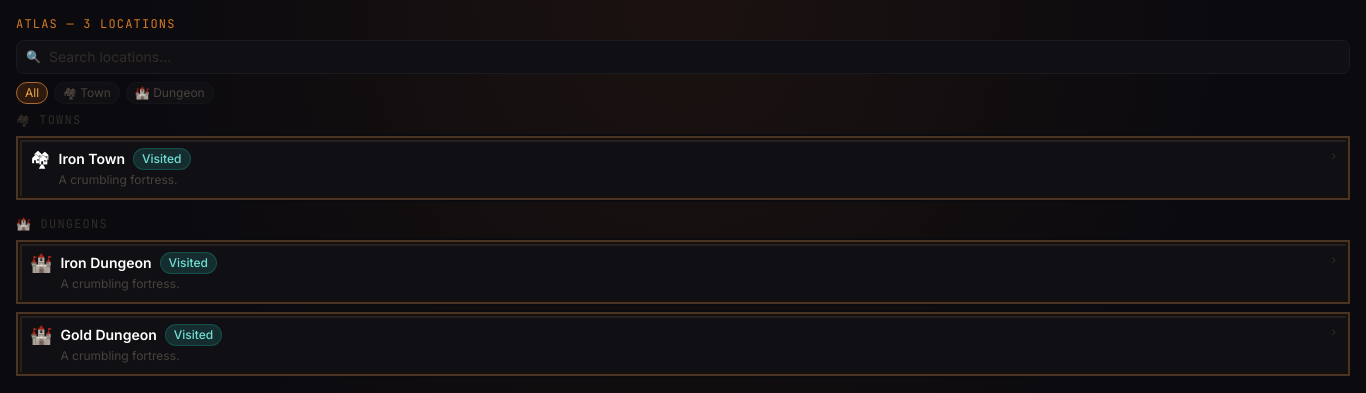
Scenario: AtlasPanel — type filter › search and type filter compose
Type "iron" into the search field at x=683, y=57, box [16,40,1350,74]
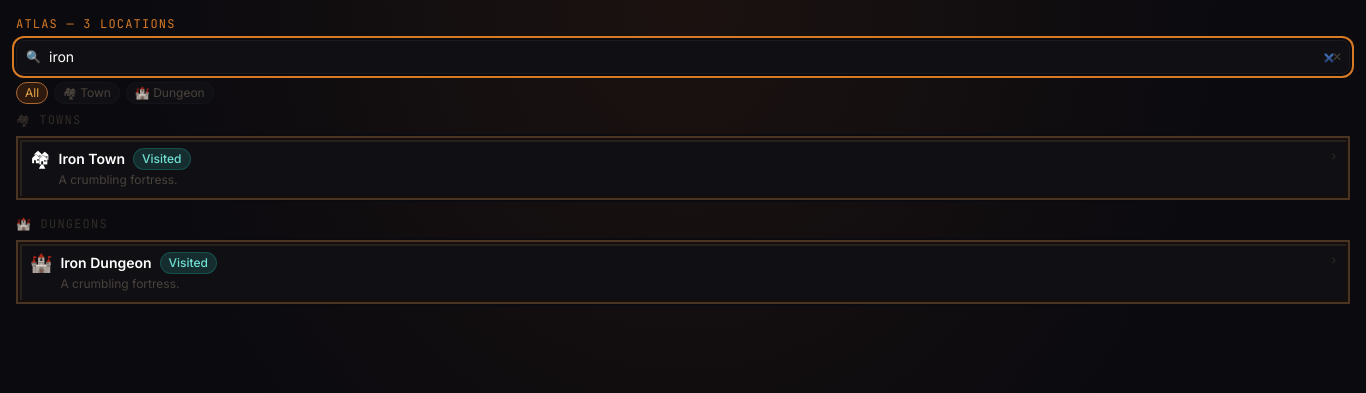
Click the button "🏰 Dungeon" at x=170, y=93, box [126,82,214,104]
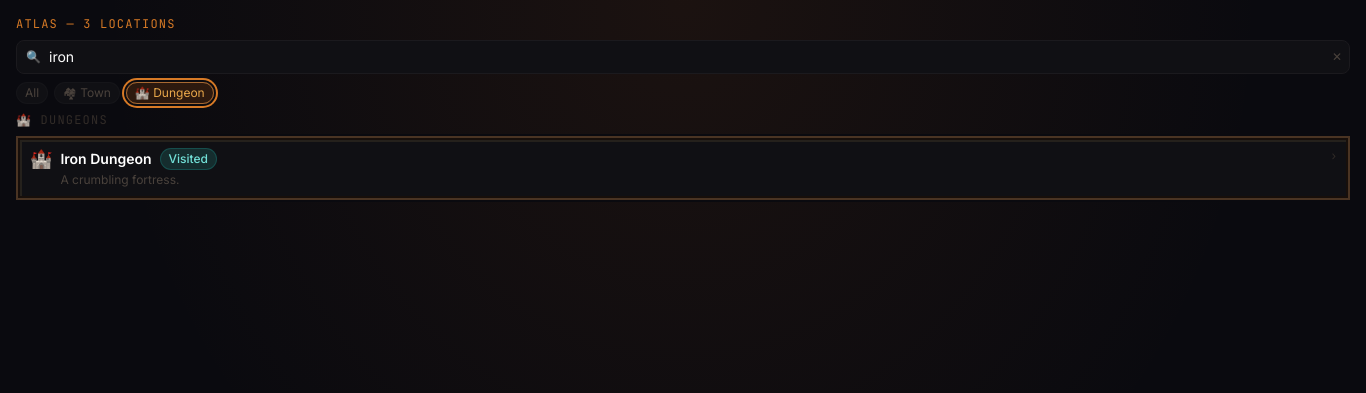
Check: the text "Iron Dungeon" is shown, box [60,149,152,169]
Check: the button "Iron Town" is gone
